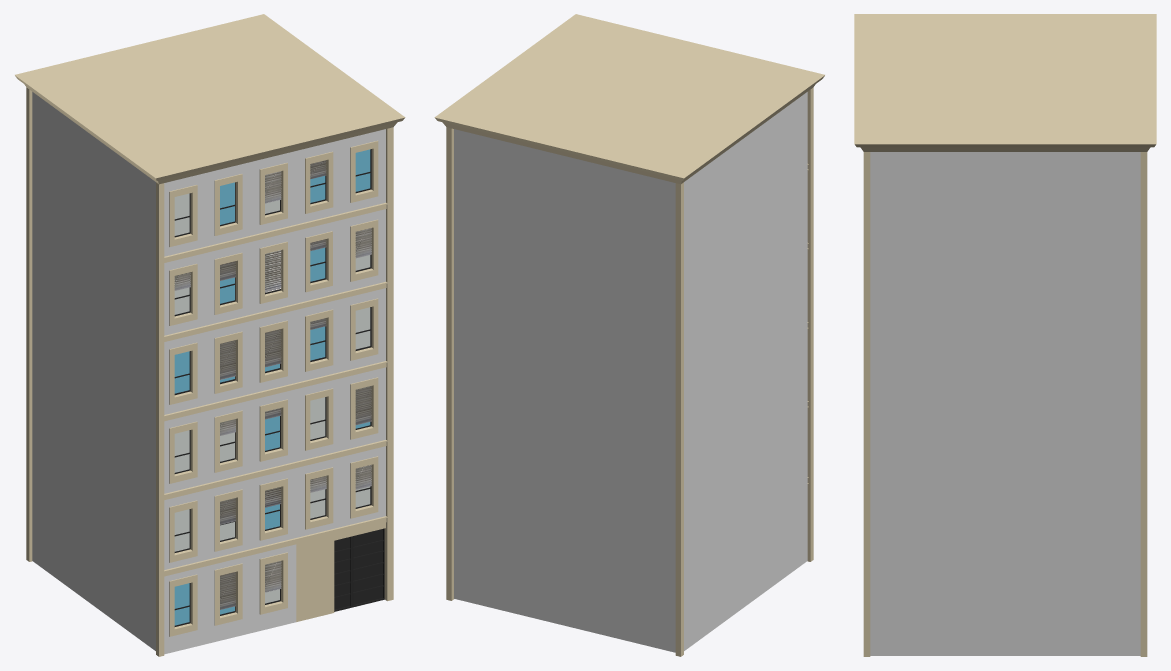
The model's file is Bloc_15F.fbx.
3 renders of one model, left to right at view 1: azimuth 30°, elevation 25°; view 2: azimuth 150°, elevation 25°; view 3: azimuth 270°, elevation 25°, orthographic. The views are drawn at different scales.
Visible parts, largest first — view 1: Bloc_15F; view 2: Bloc_15F; view 3: Bloc_15F.
Boxes of the visible parts, x1,y1,x2,y2 form: Bloc_15F: (15,14,405,656); Bloc_15F: (434,14,824,656); Bloc_15F: (854,14,1156,656).
Bounding box in the file's own units: 974 × 1840 × 993.
